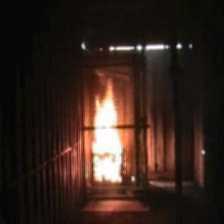fire: (86, 71, 125, 190)
